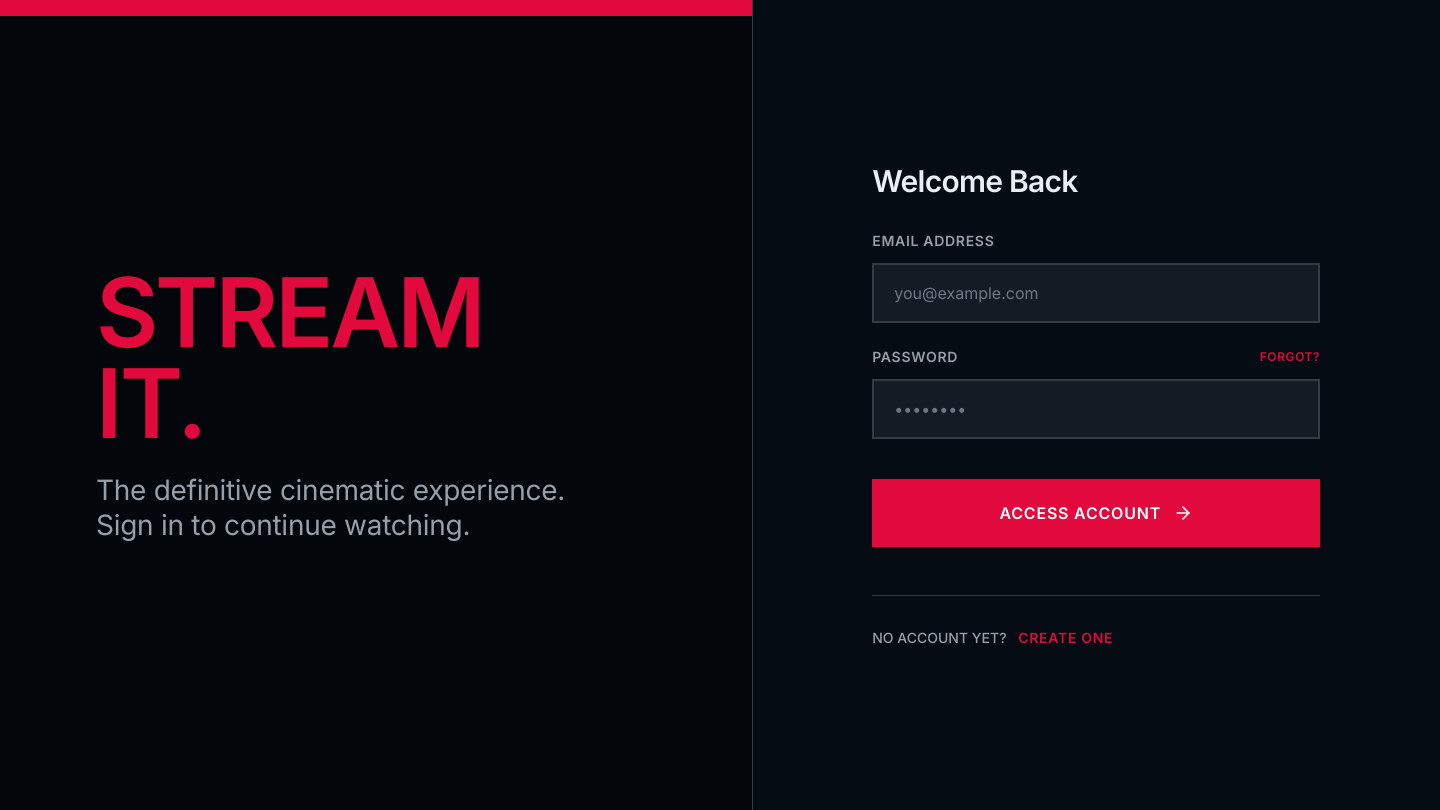
Test case: Login Component › displays default error message when server response fails without a message
In the field labelled "Email Address": (1096, 292) [872,262,1320,322], type "wrong@example.com"
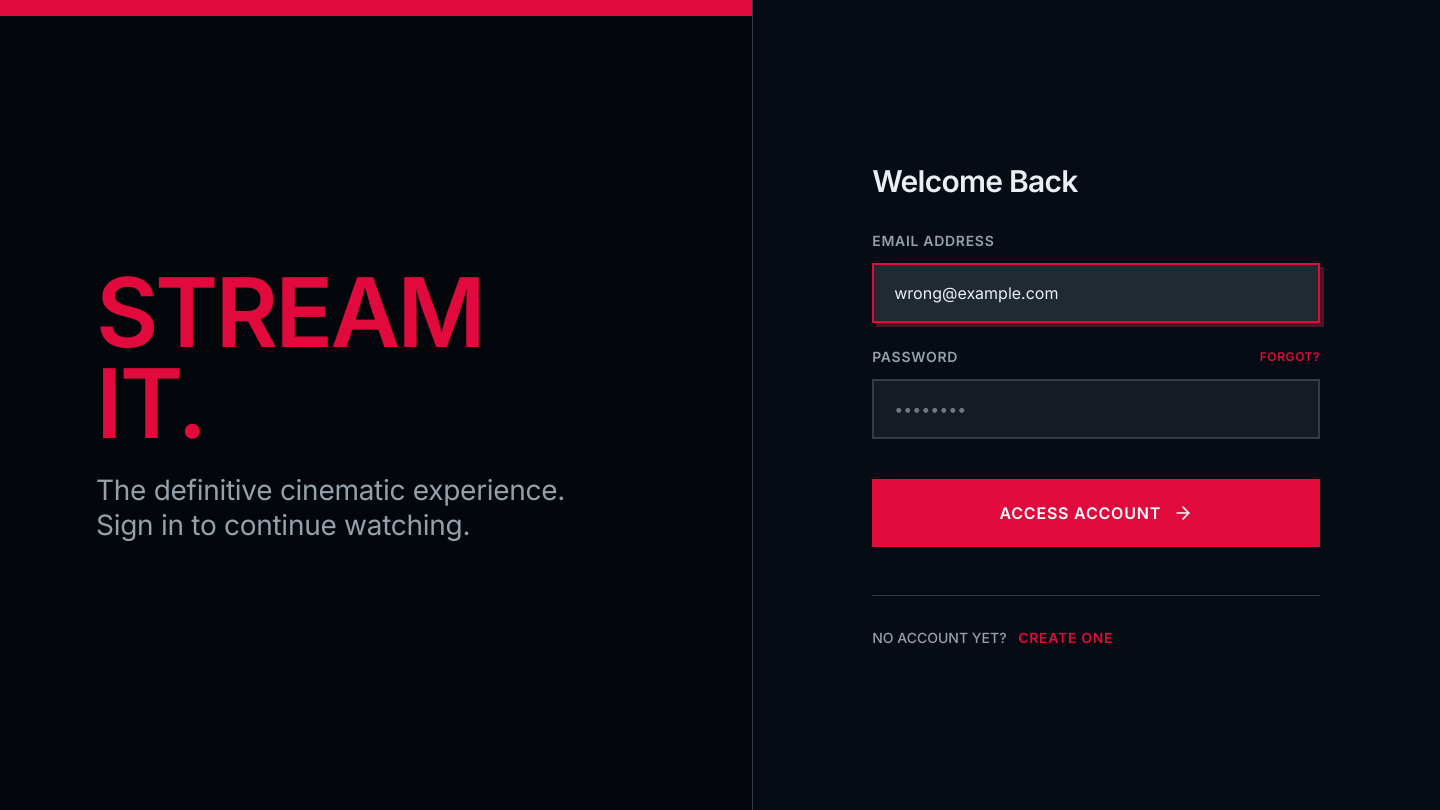
In the password field labelled "Password": (1096, 408) [872,378,1320,438], type "wrongpassword"
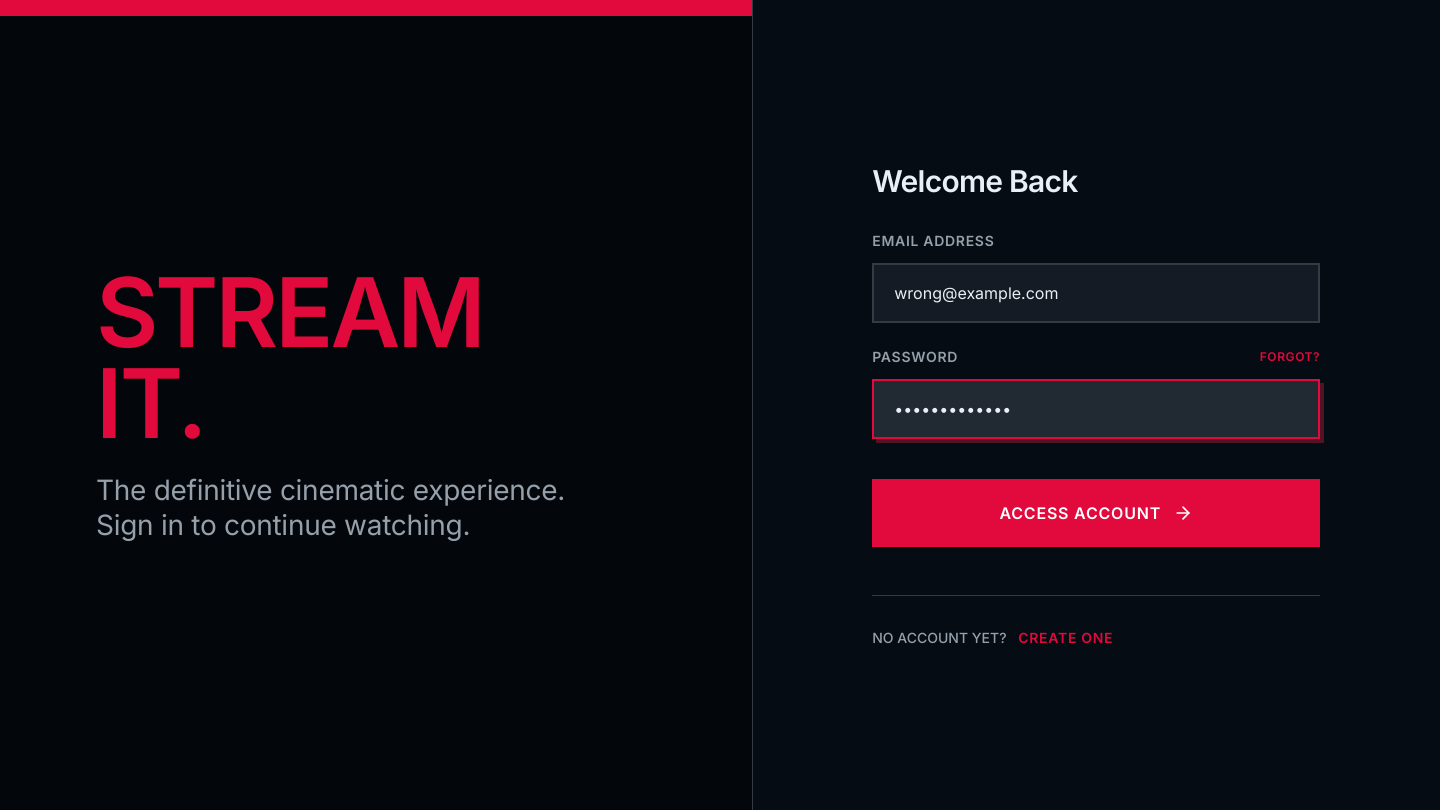
Click the button "Access Account": (1096, 512) [872,478,1320,546]
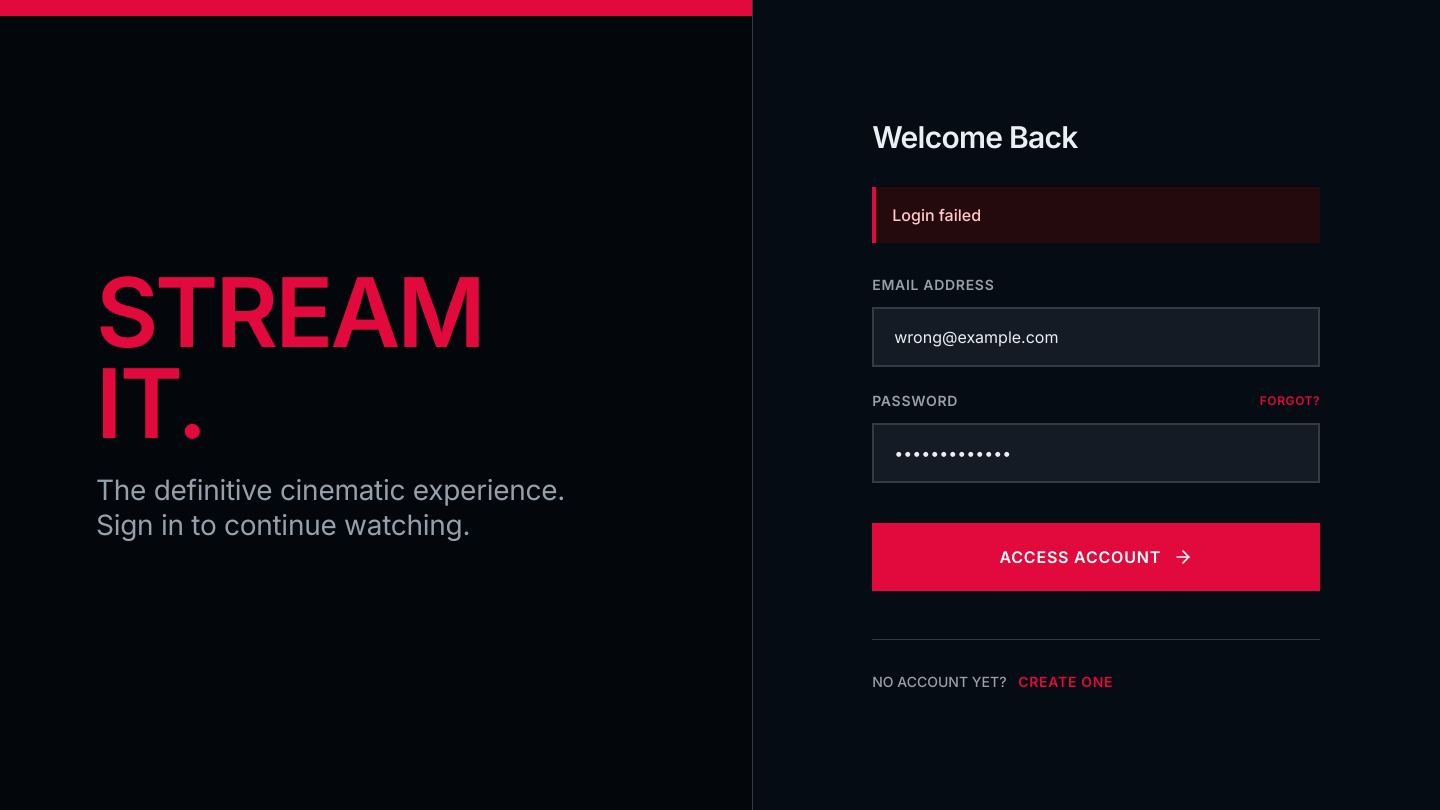
Now the text "Login failed" is shown, box [872,186,1320,242]
